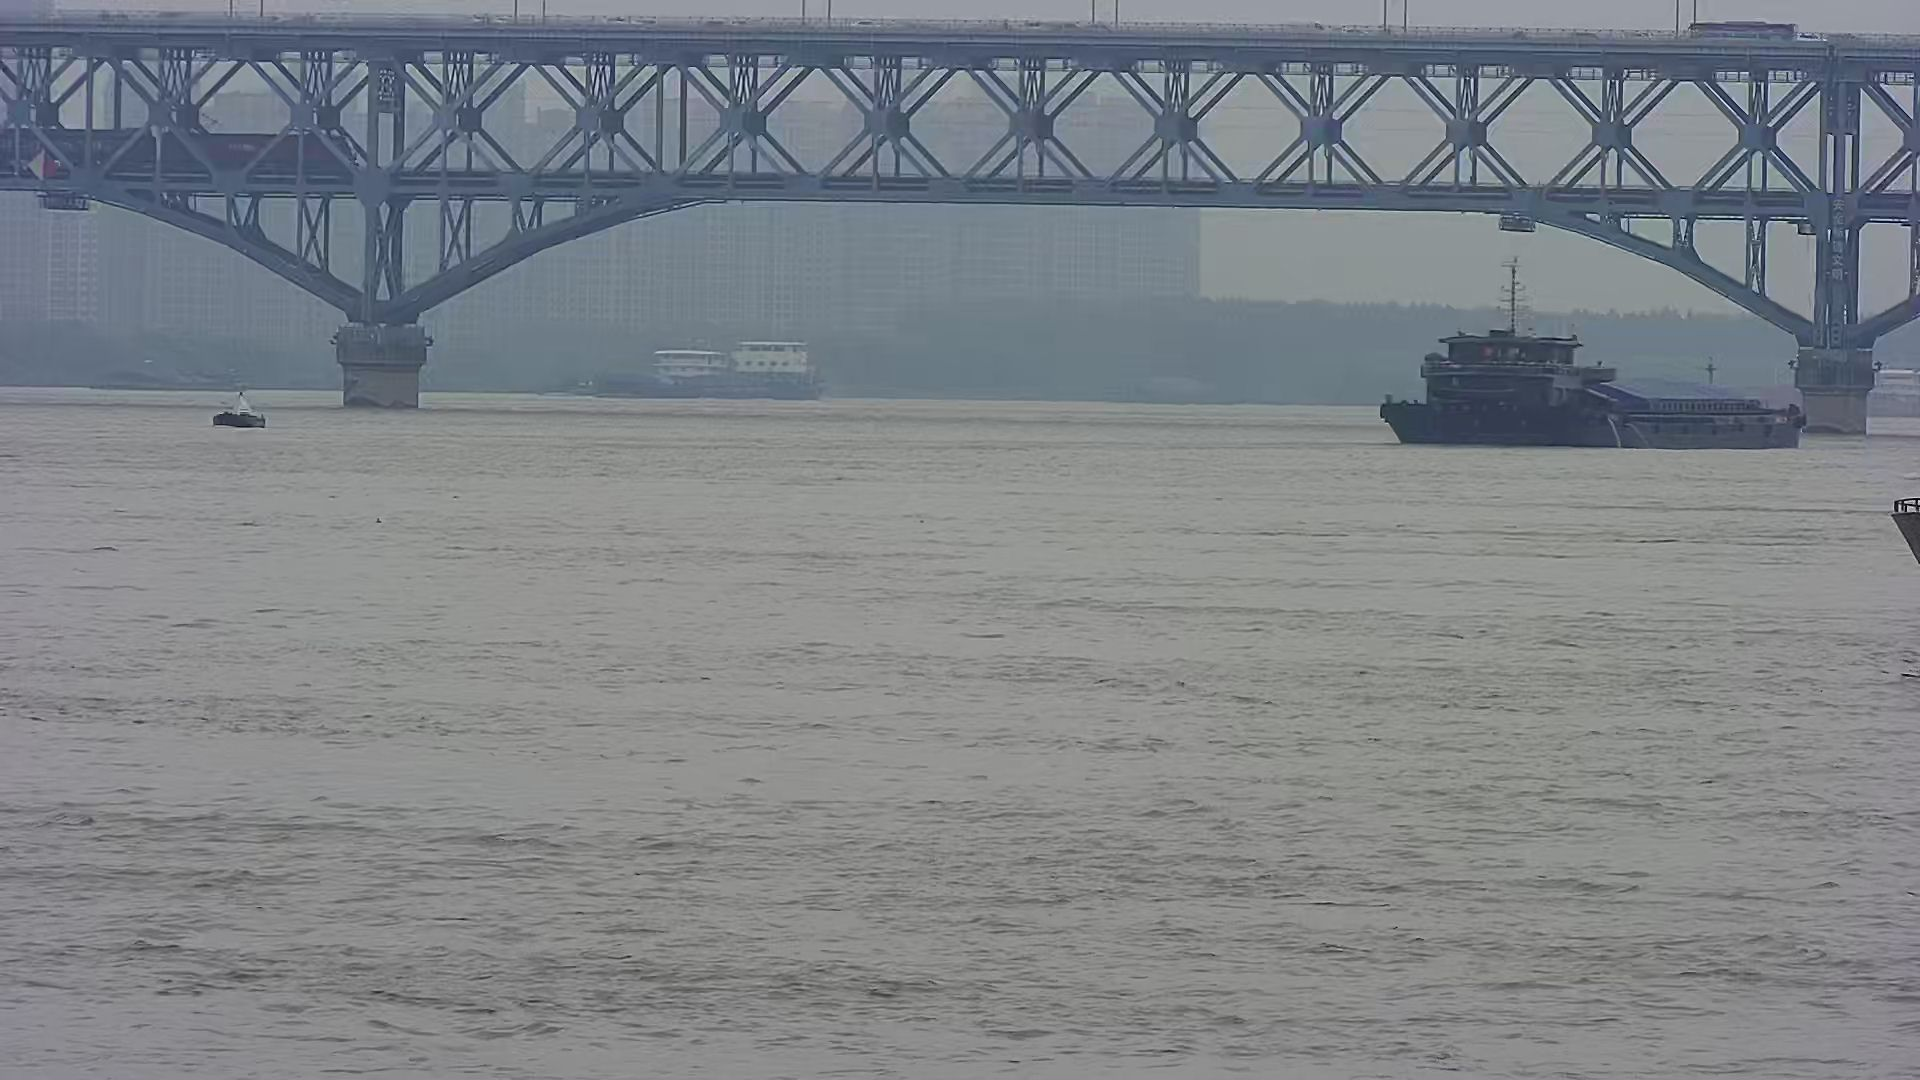boat: (208, 380, 272, 440)
bridge: (1, 1, 1905, 434)
ship: (1371, 247, 1815, 463), (676, 332, 829, 411), (582, 334, 725, 401)
